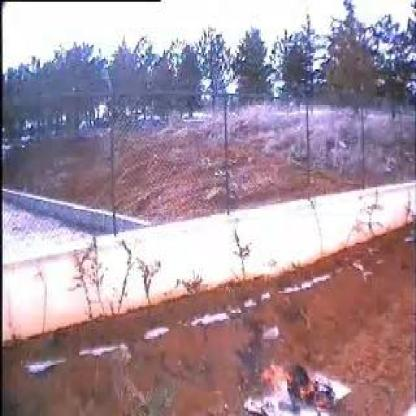foggia-v2-map80-epoch100 - v1 4323: (264, 363, 290, 386)
